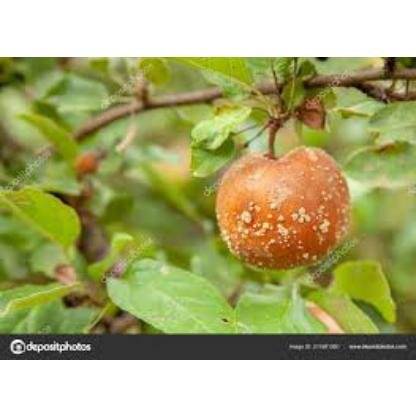apple: (209, 144, 354, 274)
